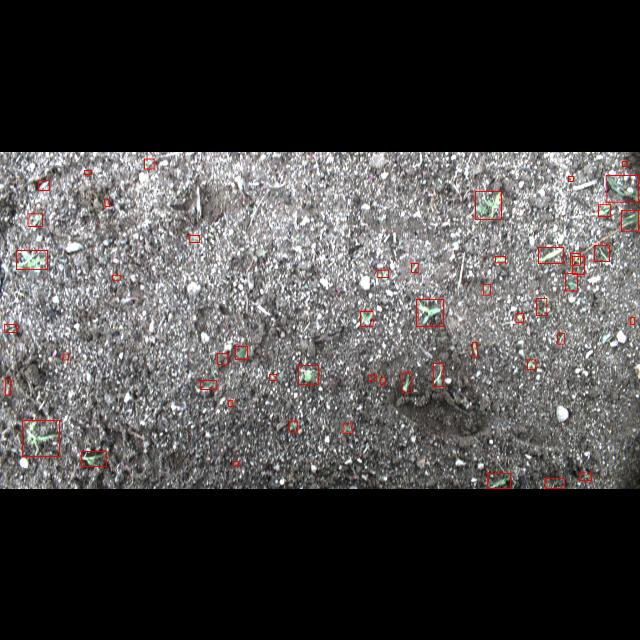weed: (22, 420, 59, 456), (606, 174, 638, 202), (416, 298, 444, 326), (475, 190, 501, 218), (16, 250, 48, 268), (538, 247, 564, 263), (298, 364, 318, 384), (82, 452, 106, 466), (622, 210, 638, 230), (488, 474, 510, 488), (594, 244, 610, 260), (433, 364, 443, 386), (565, 272, 577, 290), (572, 256, 584, 274), (544, 478, 564, 488), (402, 372, 412, 392), (360, 310, 372, 326), (28, 212, 42, 225), (200, 380, 217, 390), (235, 345, 247, 359), (536, 298, 546, 314), (598, 204, 610, 216), (570, 252, 580, 264), (39, 179, 50, 189), (218, 352, 228, 363), (342, 423, 352, 433), (526, 359, 536, 369), (144, 158, 154, 168), (579, 472, 591, 480), (5, 379, 11, 395), (5, 324, 17, 332), (377, 269, 389, 277), (289, 421, 297, 432), (472, 342, 478, 356), (483, 284, 491, 294), (189, 234, 199, 242), (558, 332, 564, 343), (516, 312, 522, 322), (412, 262, 418, 272), (495, 256, 505, 262), (112, 274, 121, 280), (368, 374, 376, 380), (104, 198, 110, 206), (380, 378, 386, 384), (270, 374, 276, 380), (622, 160, 628, 166), (630, 316, 634, 324), (85, 169, 92, 173), (234, 460, 238, 466), (229, 400, 233, 406), (64, 353, 68, 359), (568, 176, 574, 180)
